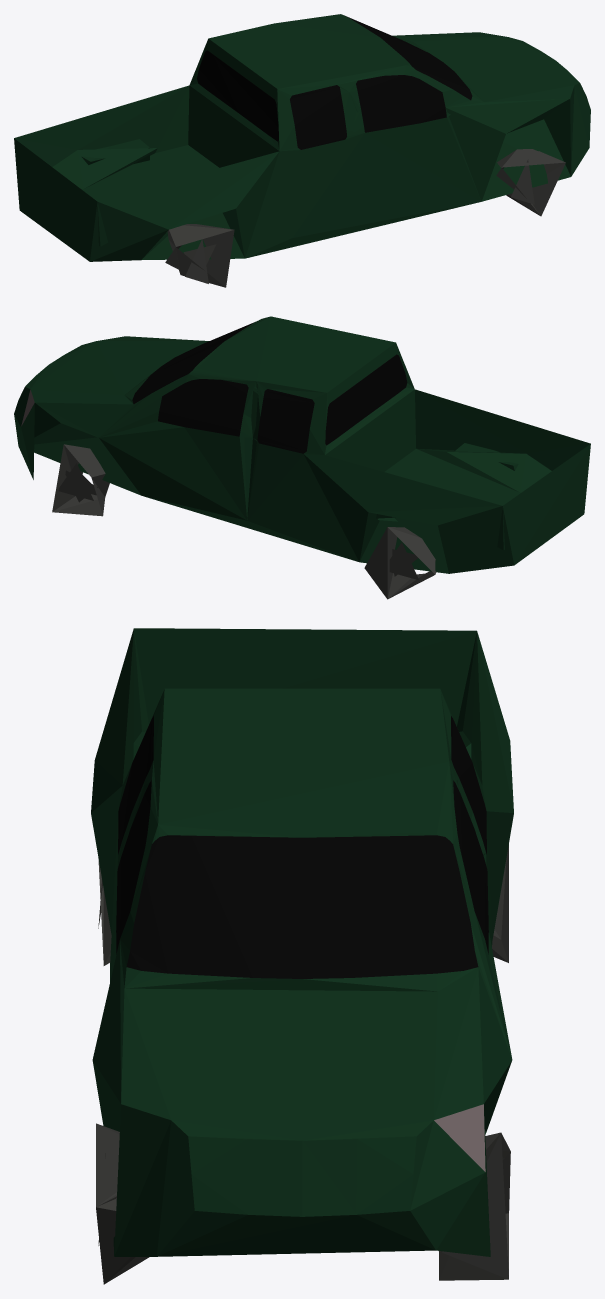
Rendered from pc-pickup.lod2.glb.
The picture shows the model from 3 angles, top to bottom: view 1: azimuth 30°, elevation 25°; view 2: azimuth 150°, elevation 25°; view 3: azimuth 270°, elevation 25°; orthographic projection. The views are drawn at different scales.
Visible parts, largest first — view 1: Wheel_E_Wheel_0; view 2: Wheel_E_Wheel_0; view 3: Wheel_E_Wheel_0.
Part boxes in pixels (x1,y1,x2,y2): Wheel_E_Wheel_0: (14, 14, 590, 287); Wheel_E_Wheel_0: (14, 316, 590, 599); Wheel_E_Wheel_0: (91, 628, 513, 1284).
Size of the model in its own units: 5.04 by 1.66 by 1.8.
